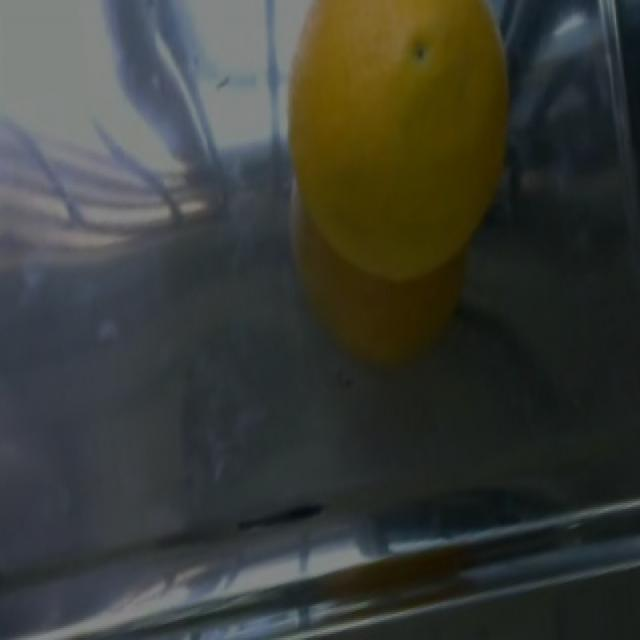Fruit: (262, 0, 518, 288)
